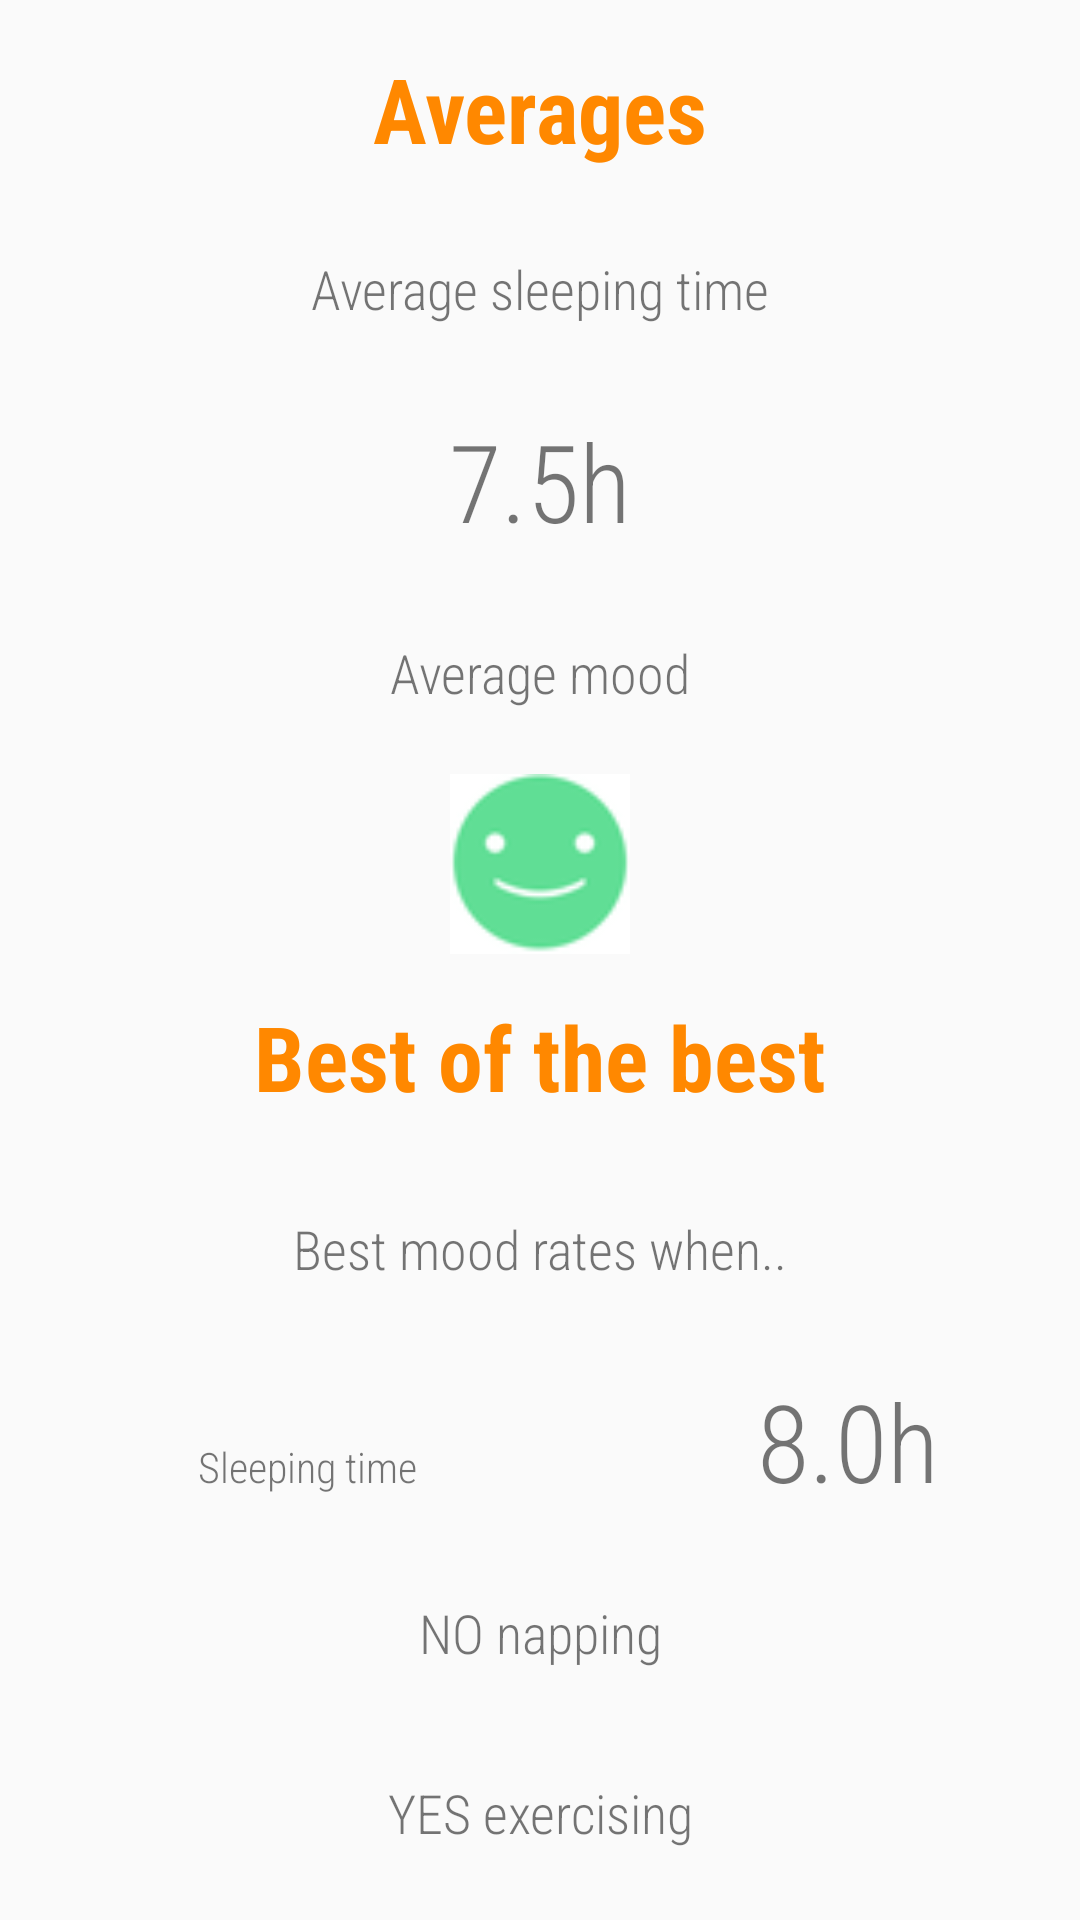

Where to tap for icons on this 1080px x 1920px app screen, as [x,y]:
happyhappyface: [540,862]
